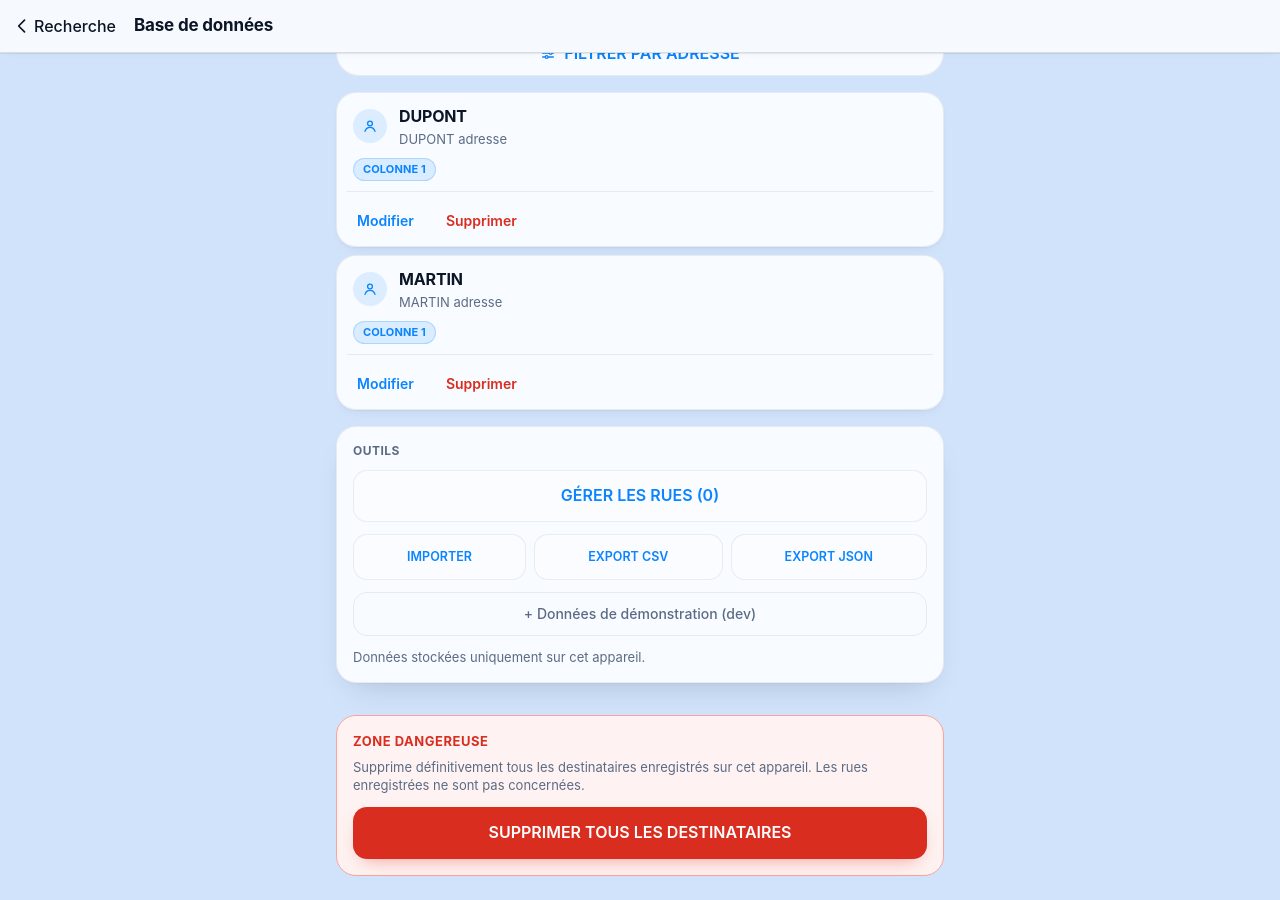
it: DatabasePage — Zone dangereuse : suppression de tous les destinataires › ANNULER ferme la modale sans rien supprimer
(page scrolled)
Click the button "SUPPRIMER TOUS LES DESTINATAIRES".
click(640, 833)  # box top-left (353, 807), bottom-right (927, 859)
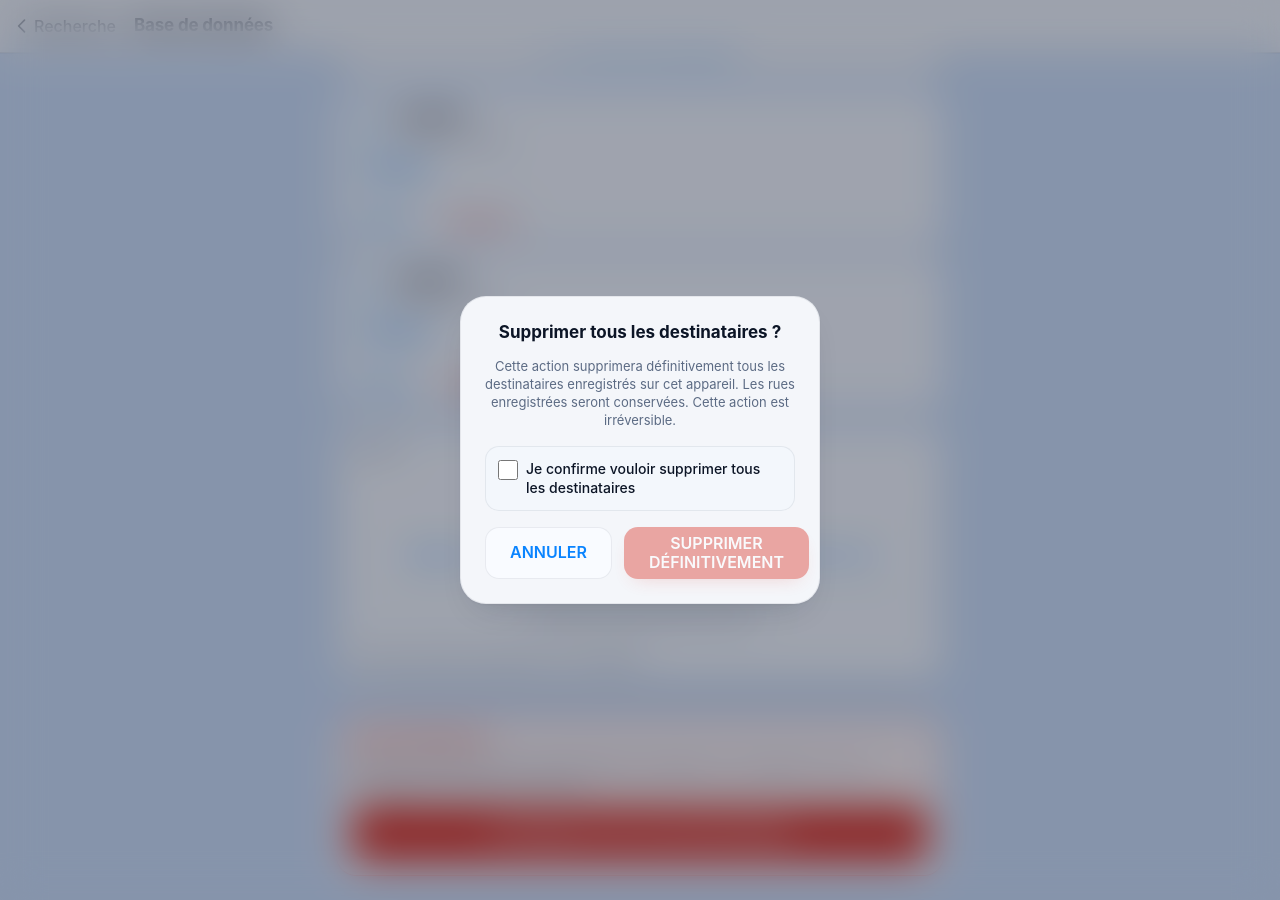
Click the checkbox labelled "Je confirme vouloir supprimer tous les destinataires".
click(508, 470)  # box top-left (498, 460), bottom-right (518, 480)
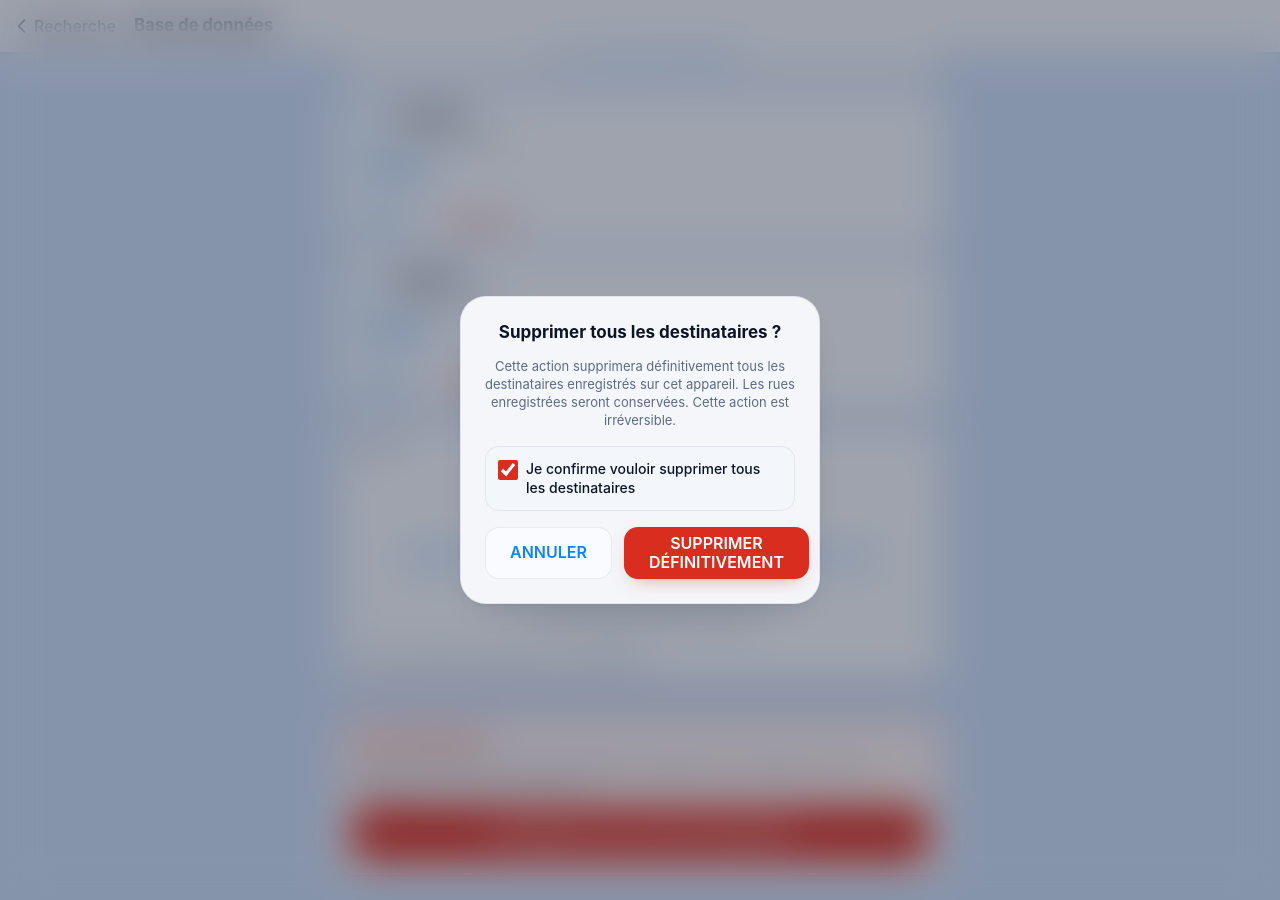
Click the button "ANNULER".
click(548, 553)  # box top-left (485, 527), bottom-right (612, 579)
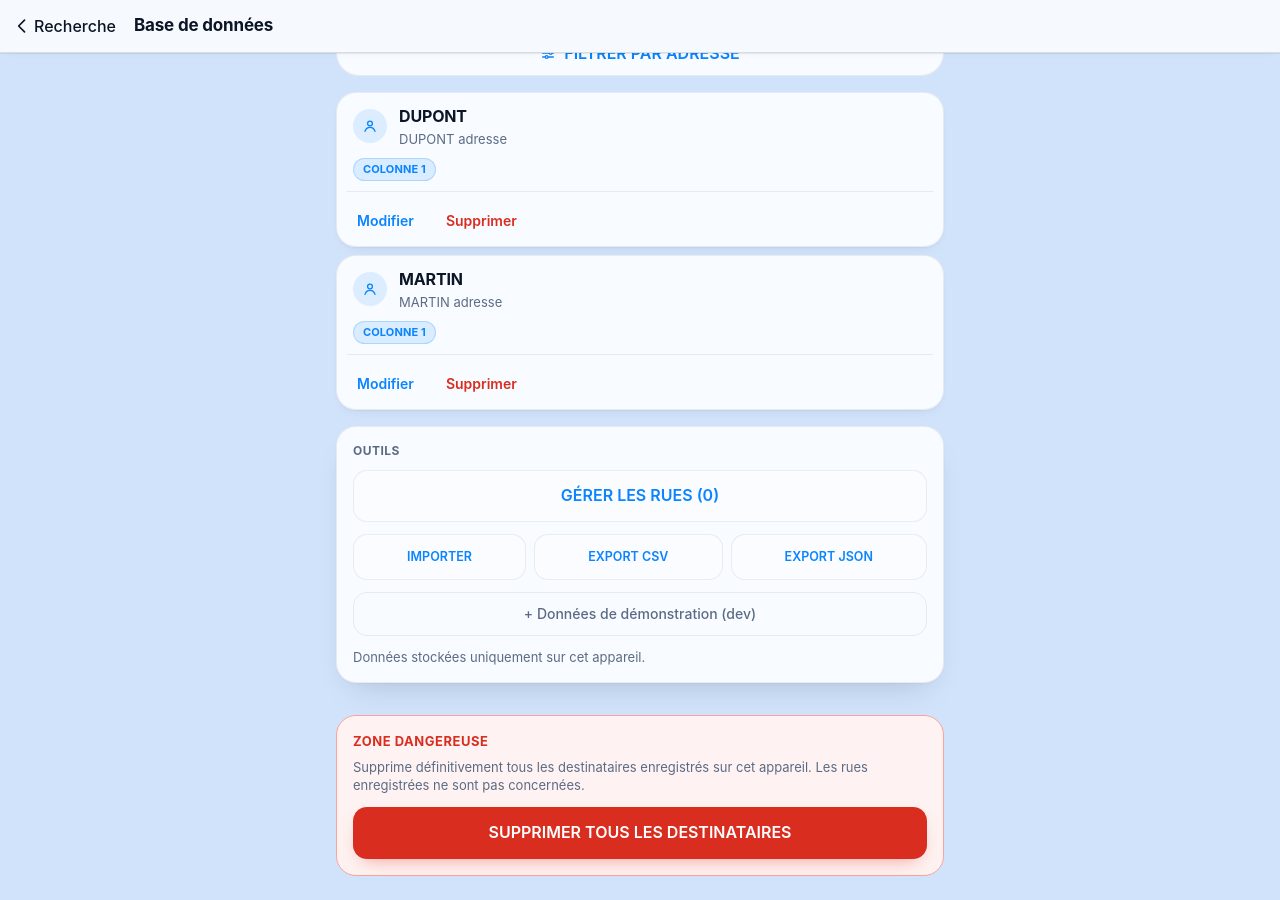
Result: the checkbox is gone
